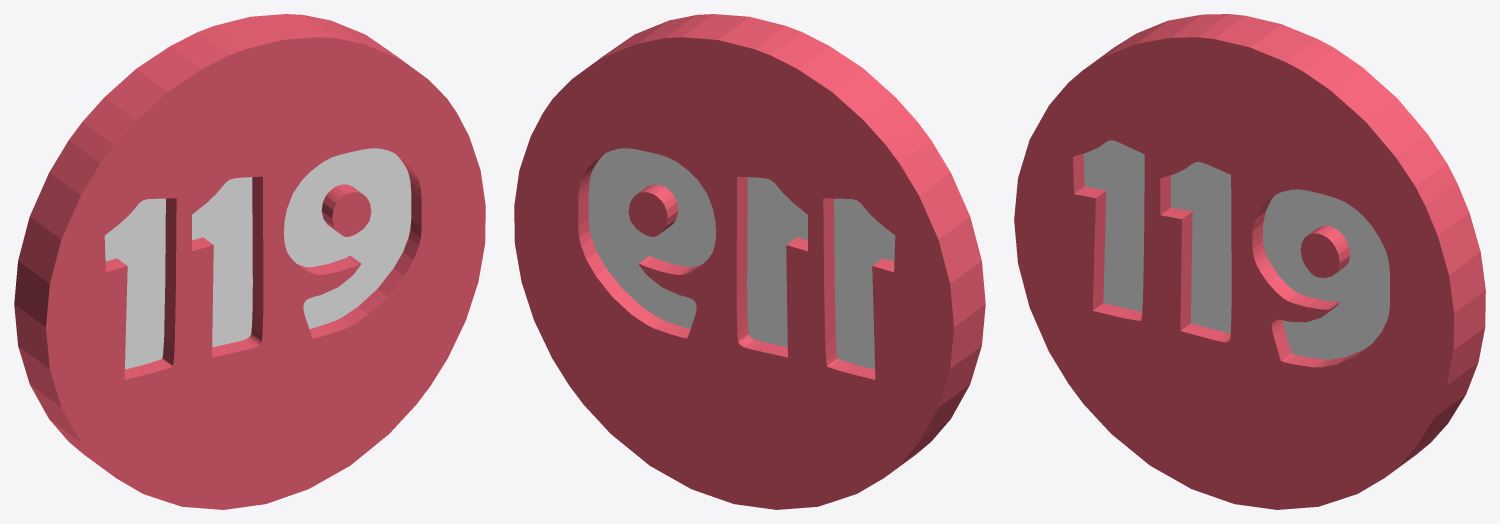
File: backup-shobo-marker.fbx
3 views of the same model, side by side, from view 1: azimuth 30°, elevation 25°; view 2: azimuth 150°, elevation 25°; view 3: azimuth 330°, elevation 25° (orthographic).
Visible parts, largest first — view 1: obj_0.005; view 2: obj_0.005; view 3: obj_0.005.
Boxes of the visible parts, x1,y1,x2,y2 form: obj_0.005: (14, 14, 485, 509); obj_0.005: (514, 14, 985, 509); obj_0.005: (1014, 14, 1485, 509).
Bounding box in the file's own units: 4000 × 4000 × 500.
